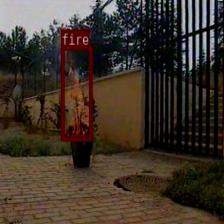fire: (60, 45, 92, 140)
